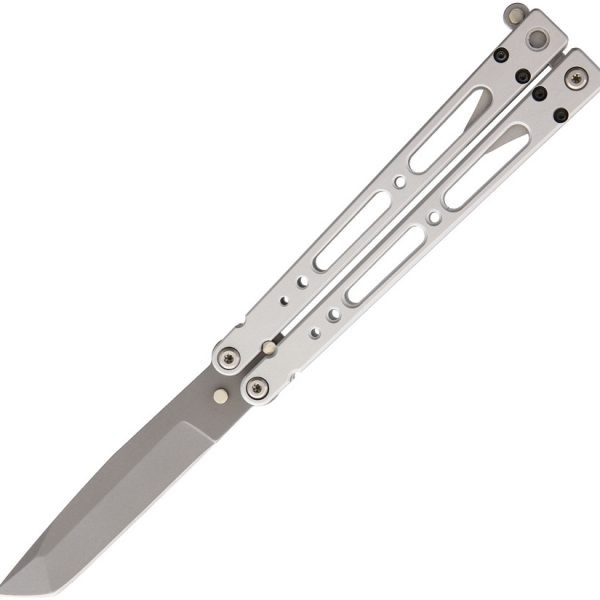knife: (3, 3, 600, 600)
